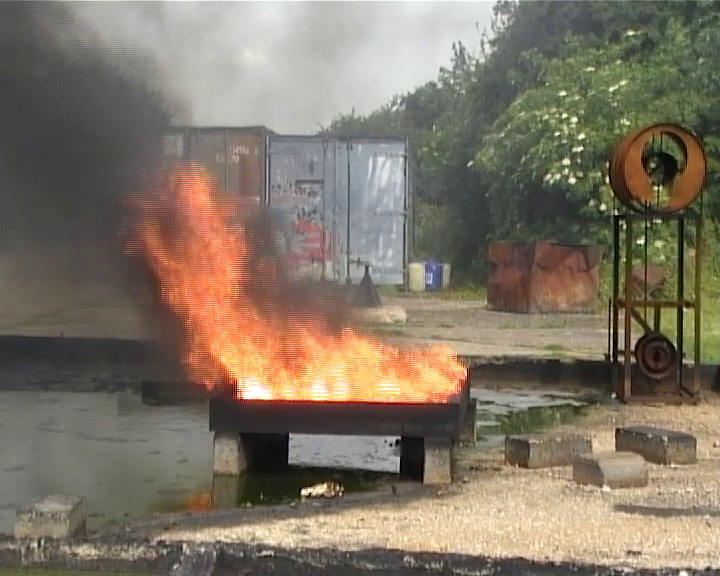fire: (150, 169, 463, 402)
